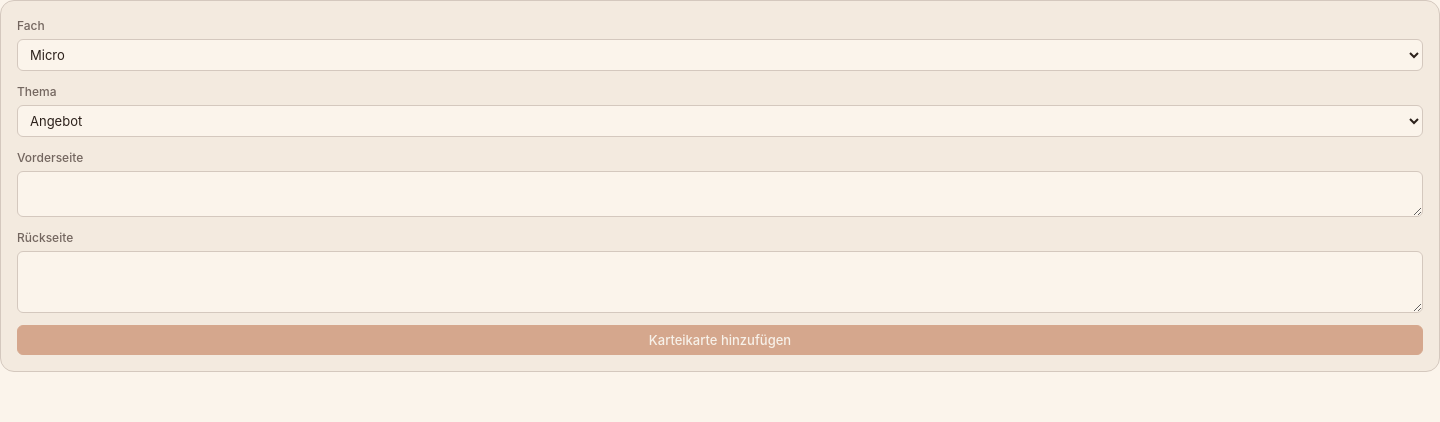
ManualCardForm › legt eine Karte mit Fach/Thema/Vorder-/Rückseite an
The image size is (1440, 422).
Select "Micro" in the dropdown labelled "Fach" at (720, 55), box x1=17 y1=39 x2=1423 y2=71
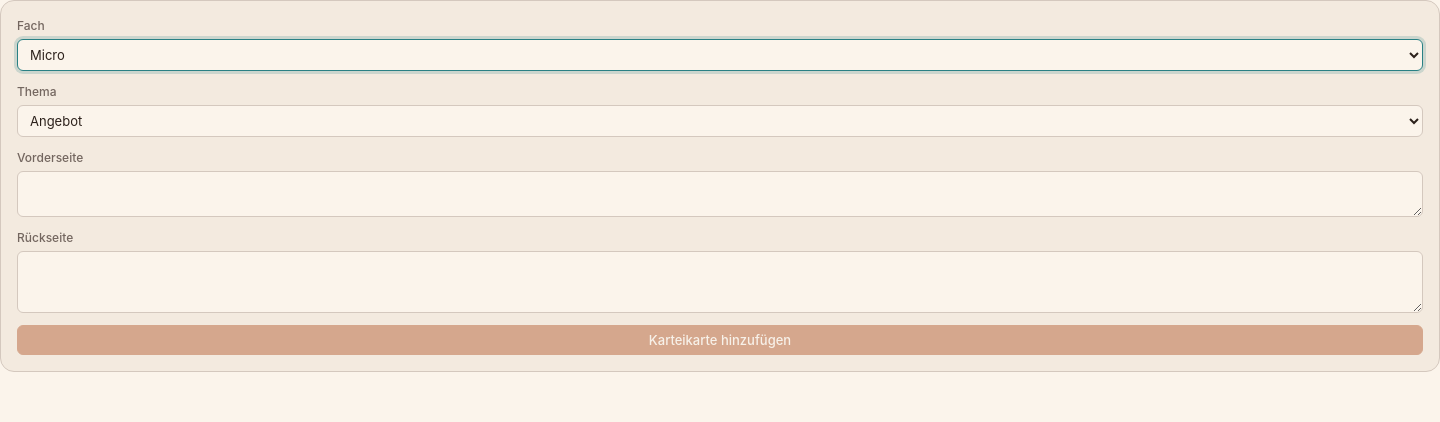
Select "Angebot" in the dropdown labelled "Thema" at (720, 121), box x1=17 y1=105 x2=1423 y2=137
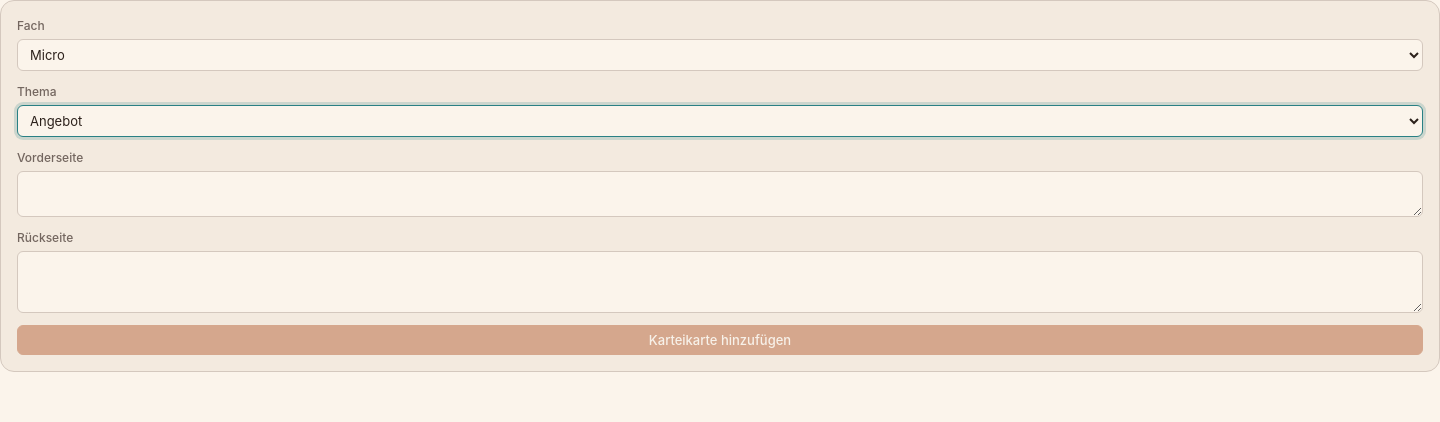
Type "Was ist Angebot?" into the text box labelled "Vorderseite".
click(720, 194); type("Was ist Angebot?")  # box x1=17 y1=171 x2=1423 y2=217
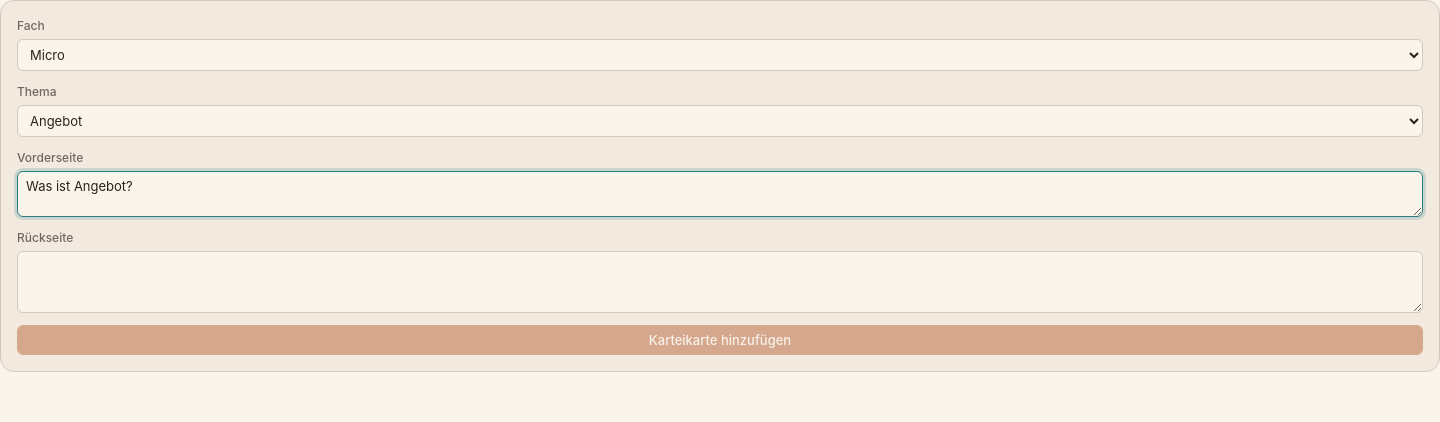
Type "Die Menge zu einem Preis." into the text box labelled "Rückseite".
click(720, 282); type("Die Menge zu einem Preis.")  # box x1=17 y1=251 x2=1423 y2=313
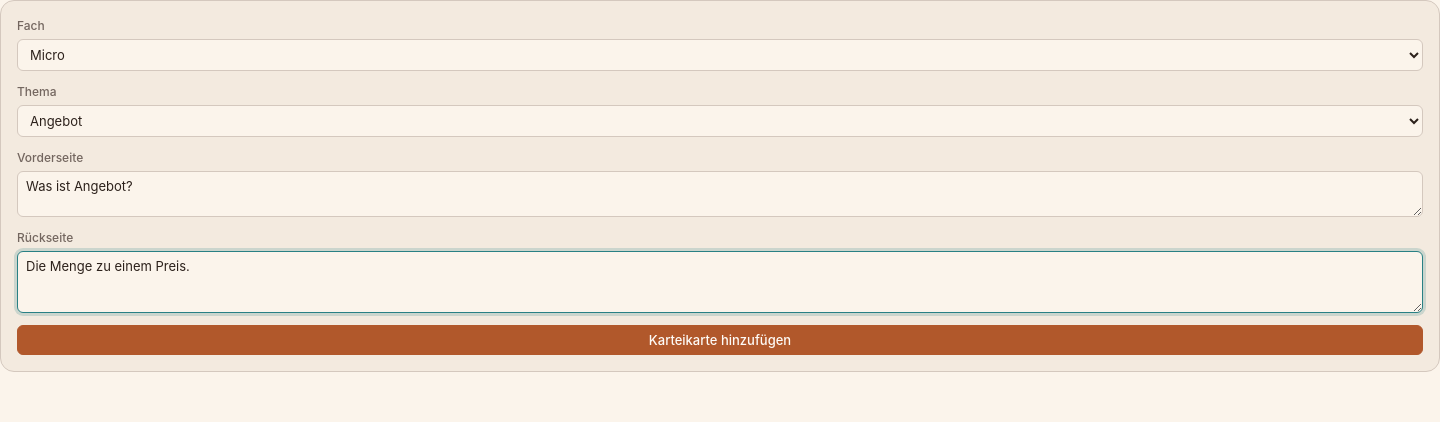
Click the button "Karteikarte hinzufügen".
click(720, 340)  # box x1=17 y1=325 x2=1423 y2=355
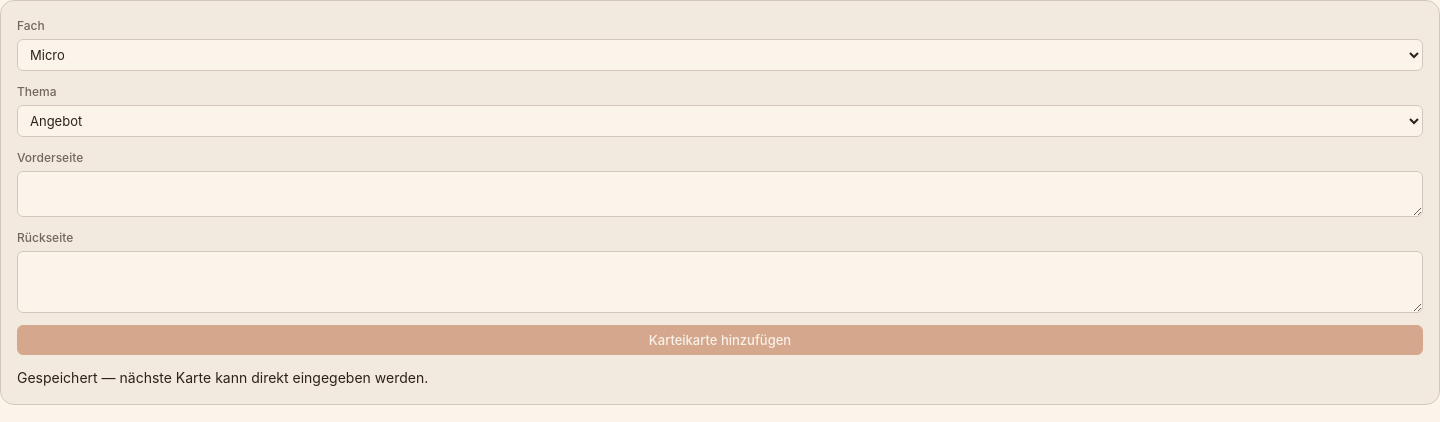
Expected: the message shows "Gespeichert", x1=17 y1=369 x2=428 y2=386
